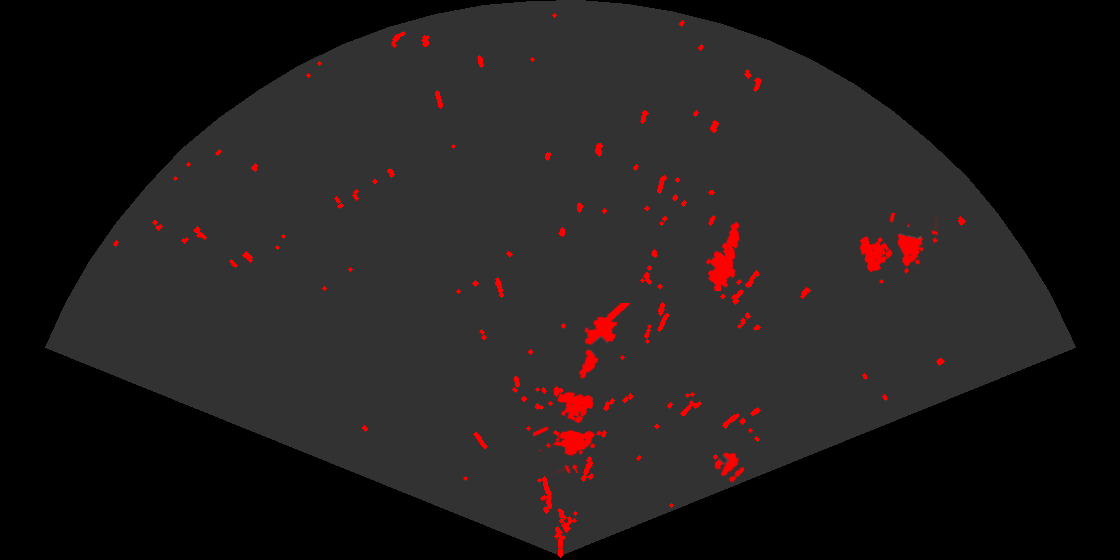ball: (713, 451, 746, 484)
cage: (533, 390, 603, 473), (858, 213, 938, 275)
frogman: (577, 303, 632, 380), (704, 220, 741, 291)
